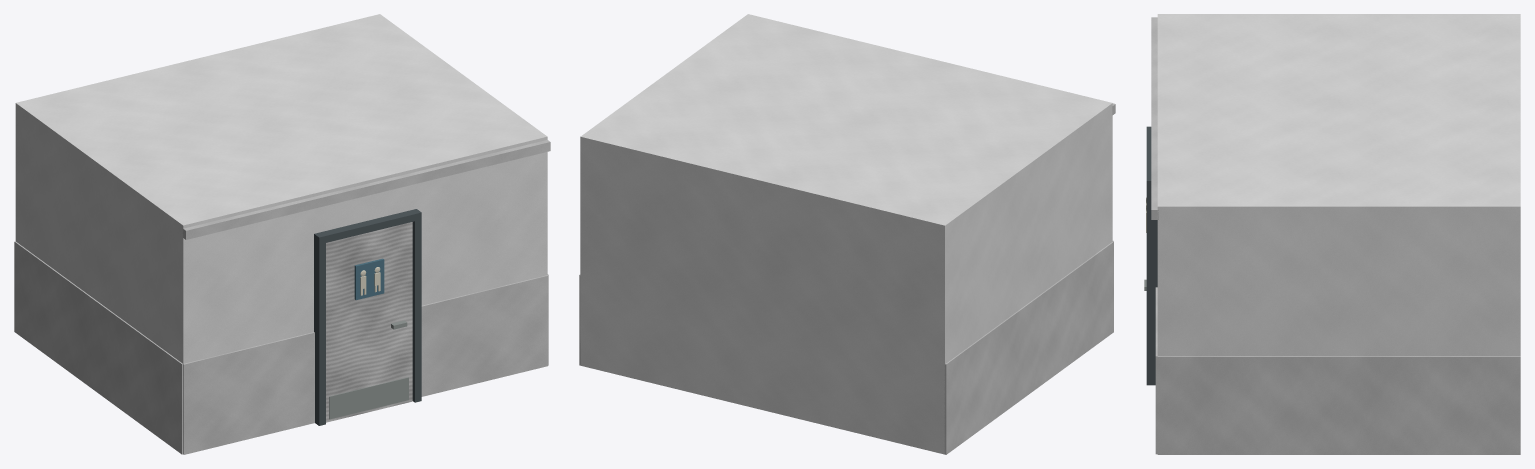
The model's file is bathroom_exterior.glb.
The picture shows the model from 3 angles, left to right: view 1: azimuth 30°, elevation 25°; view 2: azimuth 150°, elevation 25°; view 3: azimuth 270°, elevation 25°; orthographic projection. The views are drawn at different scales.
Parts seen in each view (by area): view 1: bathroom_exterior_Plaster, bathroom_exterior_Teal, bathroom_exterior_Wood, bathroom_exterior_Steel, bathroom_exterior_Concrete, bathroom_exterior_SteelEdge, bathroom_exterior_Blue; view 2: bathroom_exterior_Plaster, bathroom_exterior_Teal; view 3: bathroom_exterior_Plaster, bathroom_exterior_Teal, bathroom_exterior_Steel, bathroom_exterior_Concrete.
Boxes of the visible parts, <box> form: bathroom_exterior_Plaster: <box>15,14,547,363</box>; bathroom_exterior_Teal: <box>14,241,548,454</box>; bathroom_exterior_Wood: <box>326,222,412,422</box>; bathroom_exterior_Steel: <box>314,209,421,425</box>; bathroom_exterior_Concrete: <box>182,140,550,239</box>; bathroom_exterior_SteelEdge: <box>329,320,408,419</box>; bathroom_exterior_Blue: <box>354,258,384,300</box>; bathroom_exterior_Plaster: <box>580,14,1112,454</box>; bathroom_exterior_Teal: <box>579,240,1113,454</box>; bathroom_exterior_Plaster: <box>1157,14,1520,356</box>; bathroom_exterior_Teal: <box>1155,287,1520,454</box>; bathroom_exterior_Steel: <box>1146,126,1157,385</box>; bathroom_exterior_Concrete: <box>1151,17,1158,219</box>.
Size of the model in its own units: 5.43 by 3.24 by 4.46.
Materials: 8 (4 with a texture image).
